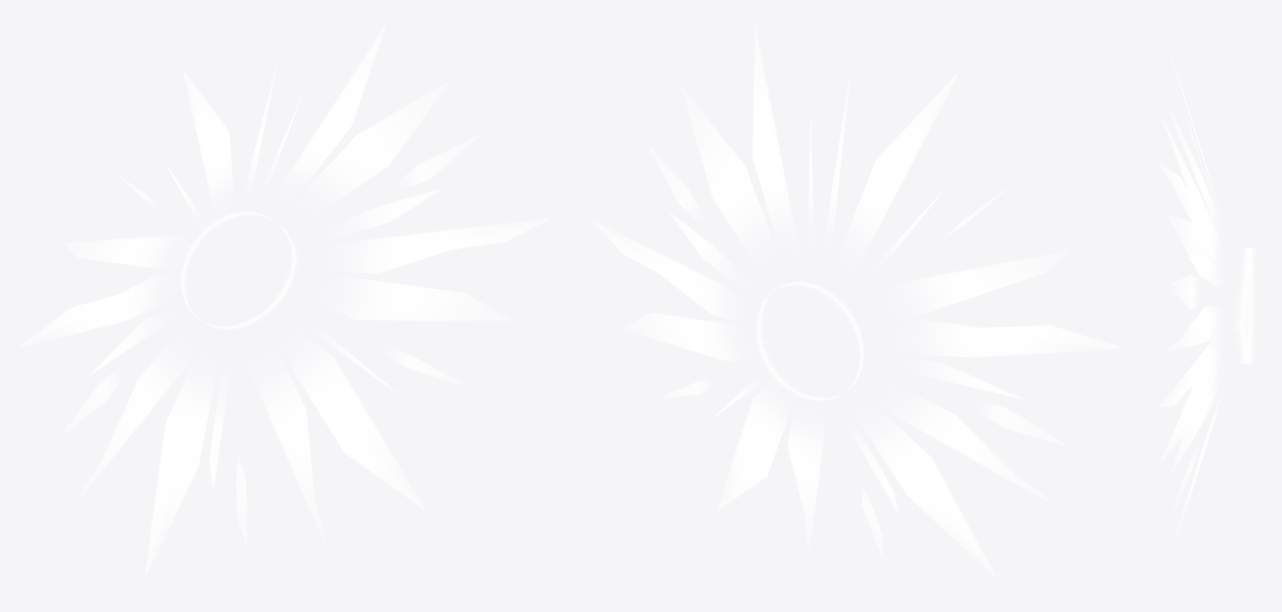
The picture shows the model from 3 angles, left to right: view 1: azimuth 30°, elevation 25°; view 2: azimuth 150°, elevation 25°; view 3: azimuth 270°, elevation 25°; orthographic projection. The views are drawn at different scales.
Parts seen in each view (by area): view 1: Fx; view 2: Fx; view 3: Fx.
Boxes of the visible parts, x1,y1,x2,y2 form: Fx: (20,22,550,577); Fx: (591,24,1122,578); Fx: (1160,34,1255,555).
Size of the model in its own units: 10.11 by 10.12 by 1.89.
2 materials, 2 textured.
